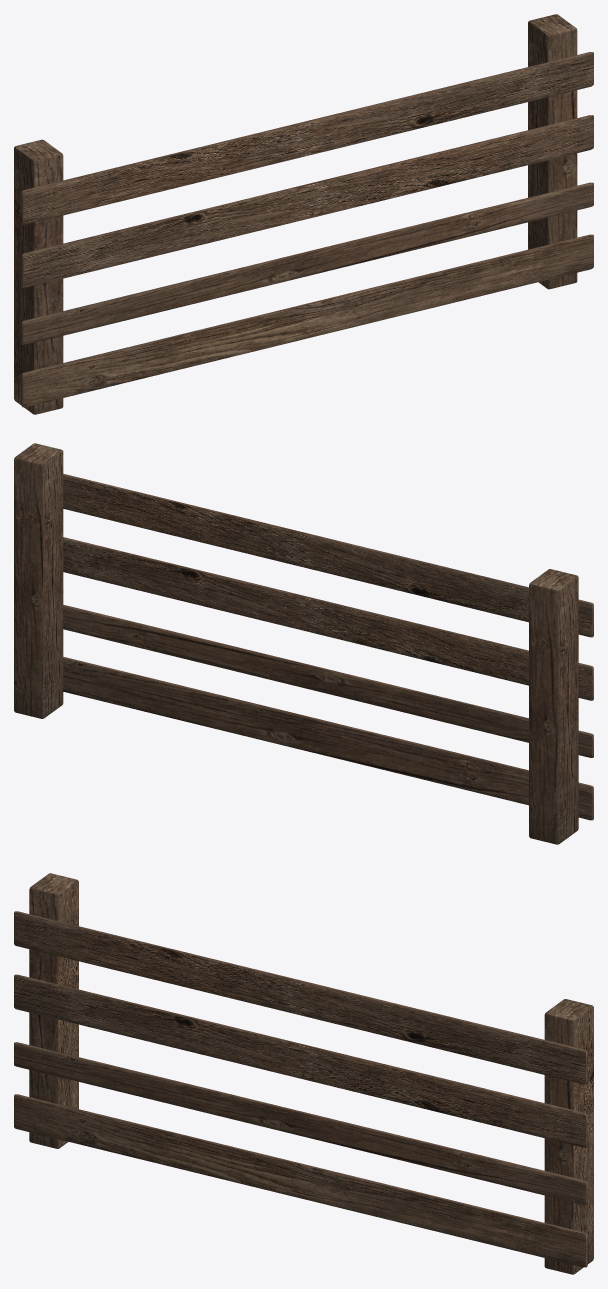
The model's file is ograda.FBX.
The picture shows the model from 3 angles, top to bottom: view 1: azimuth 30°, elevation 25°; view 2: azimuth 150°, elevation 25°; view 3: azimuth 330°, elevation 25°; orthographic projection.
Visible parts, largest first — view 1: Box002; view 2: Box002; view 3: Box002.
Part boxes in pixels (left/top/right/bottom): Box002: left=14, top=14, right=593, bottom=414; Box002: left=14, top=443, right=593, bottom=844; Box002: left=14, top=873, right=593, bottom=1274.
Size of the model in its own units: 98.13 by 41.75 by 6.82.
1 material, 1 textured.
